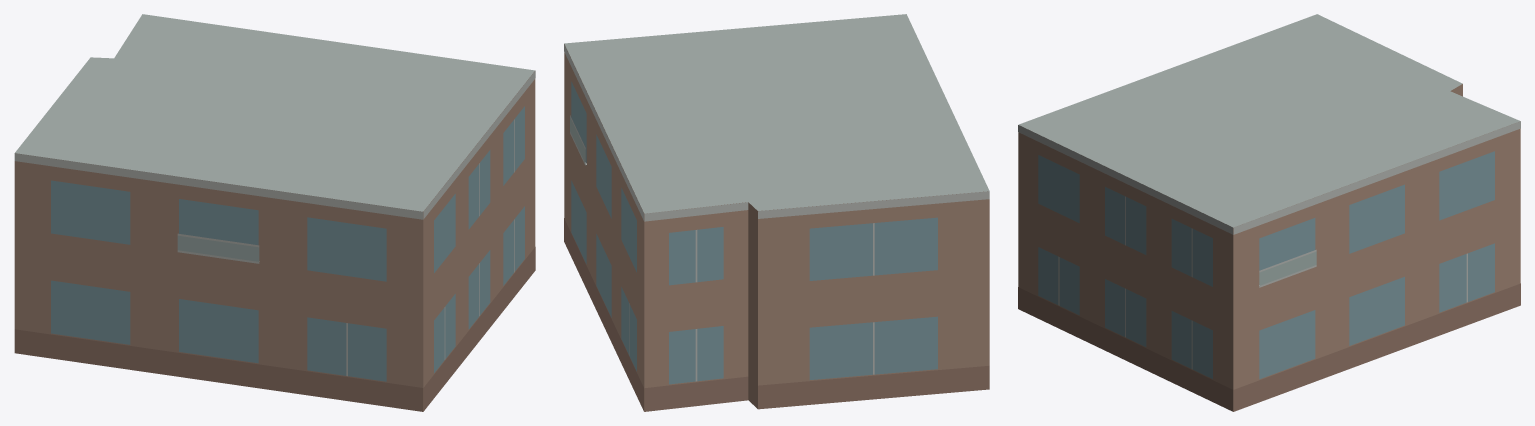
File: survey-upis-32639411.glb
3 renders of one model, left to right at view 1: azimuth 30°, elevation 25°; view 2: azimuth 150°, elevation 25°; view 3: azimuth 270°, elevation 25°, orthographic. The views are drawn at different scales.
Visible parts, largest first — view 1: survey-upis-32639411.tmp; view 2: survey-upis-32639411.tmp; view 3: survey-upis-32639411.tmp.
Boxes of the visible parts, bbox=[...] form: survey-upis-32639411.tmp: bbox=[14, 14, 535, 411]; survey-upis-32639411.tmp: bbox=[564, 14, 989, 411]; survey-upis-32639411.tmp: bbox=[1018, 14, 1520, 411].
Bounding box in the file's own units: 15.17 × 6.1 × 15.08.
